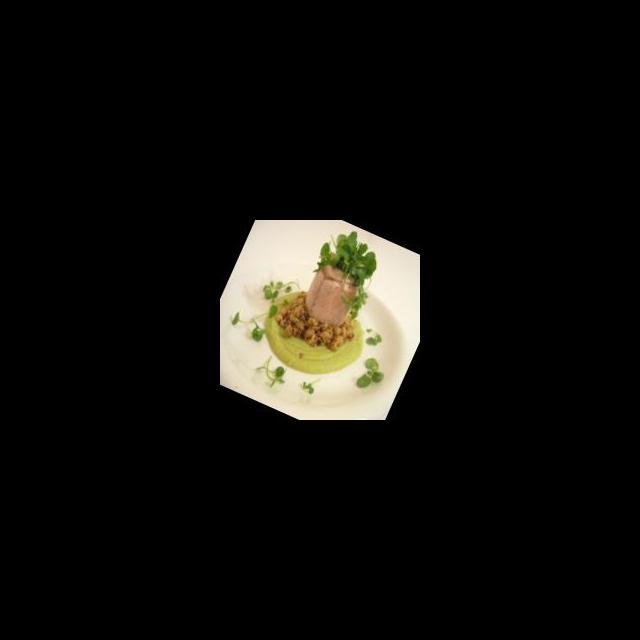ca hoi: (298, 253, 367, 330)
